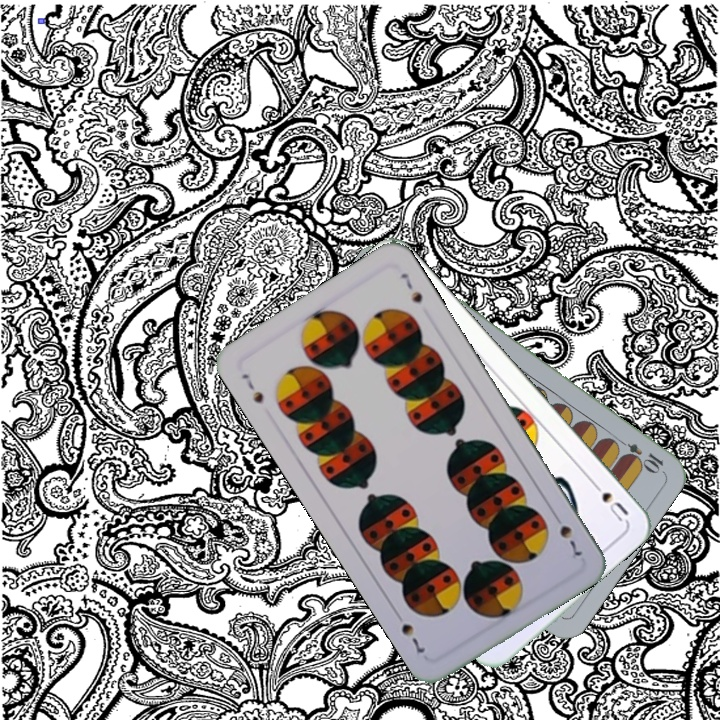E10: (611, 434, 666, 475)
S7: (549, 508, 585, 559), (237, 369, 267, 406)
SU: (585, 475, 631, 525)
